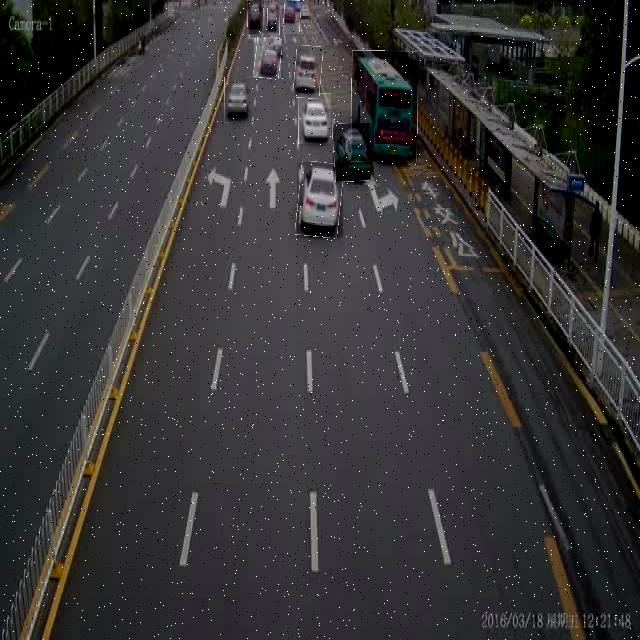Bus: (352, 51, 418, 162)
Car: (297, 162, 343, 238), (333, 123, 374, 181), (298, 93, 331, 144), (294, 46, 322, 98), (224, 77, 251, 123), (254, 38, 281, 78), (283, 0, 300, 34), (248, 0, 264, 34), (268, 6, 280, 40)
